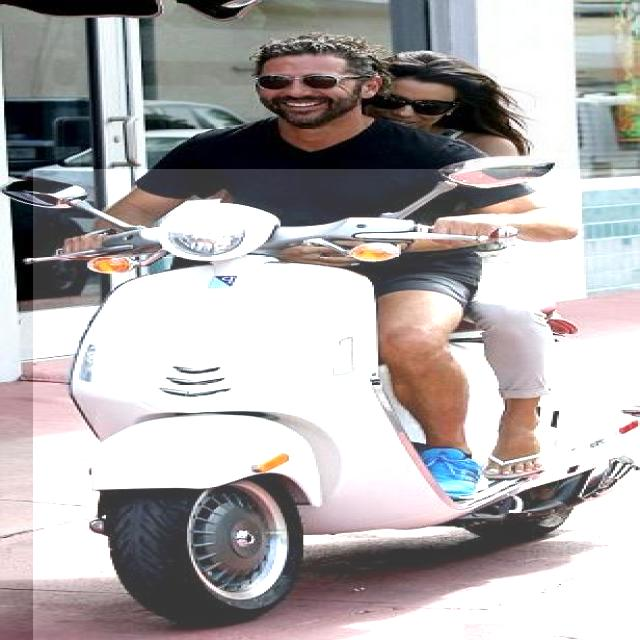Bike: (33, 169, 640, 640)
